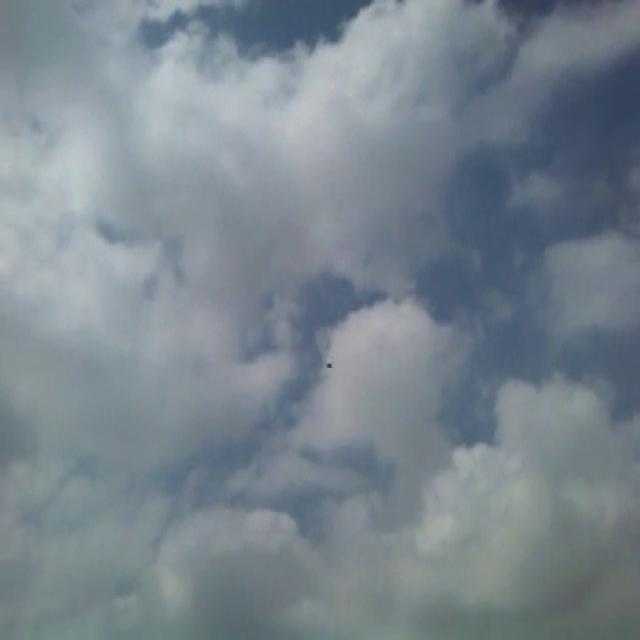drone: (324, 356, 334, 372)
